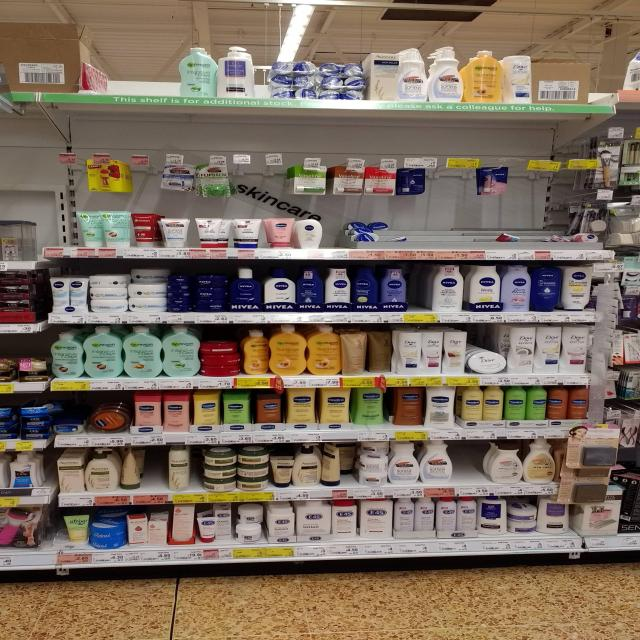void: (139, 455, 162, 490), (456, 449, 479, 483), (408, 275, 428, 307), (62, 214, 81, 247), (47, 520, 66, 544), (325, 226, 340, 246)
